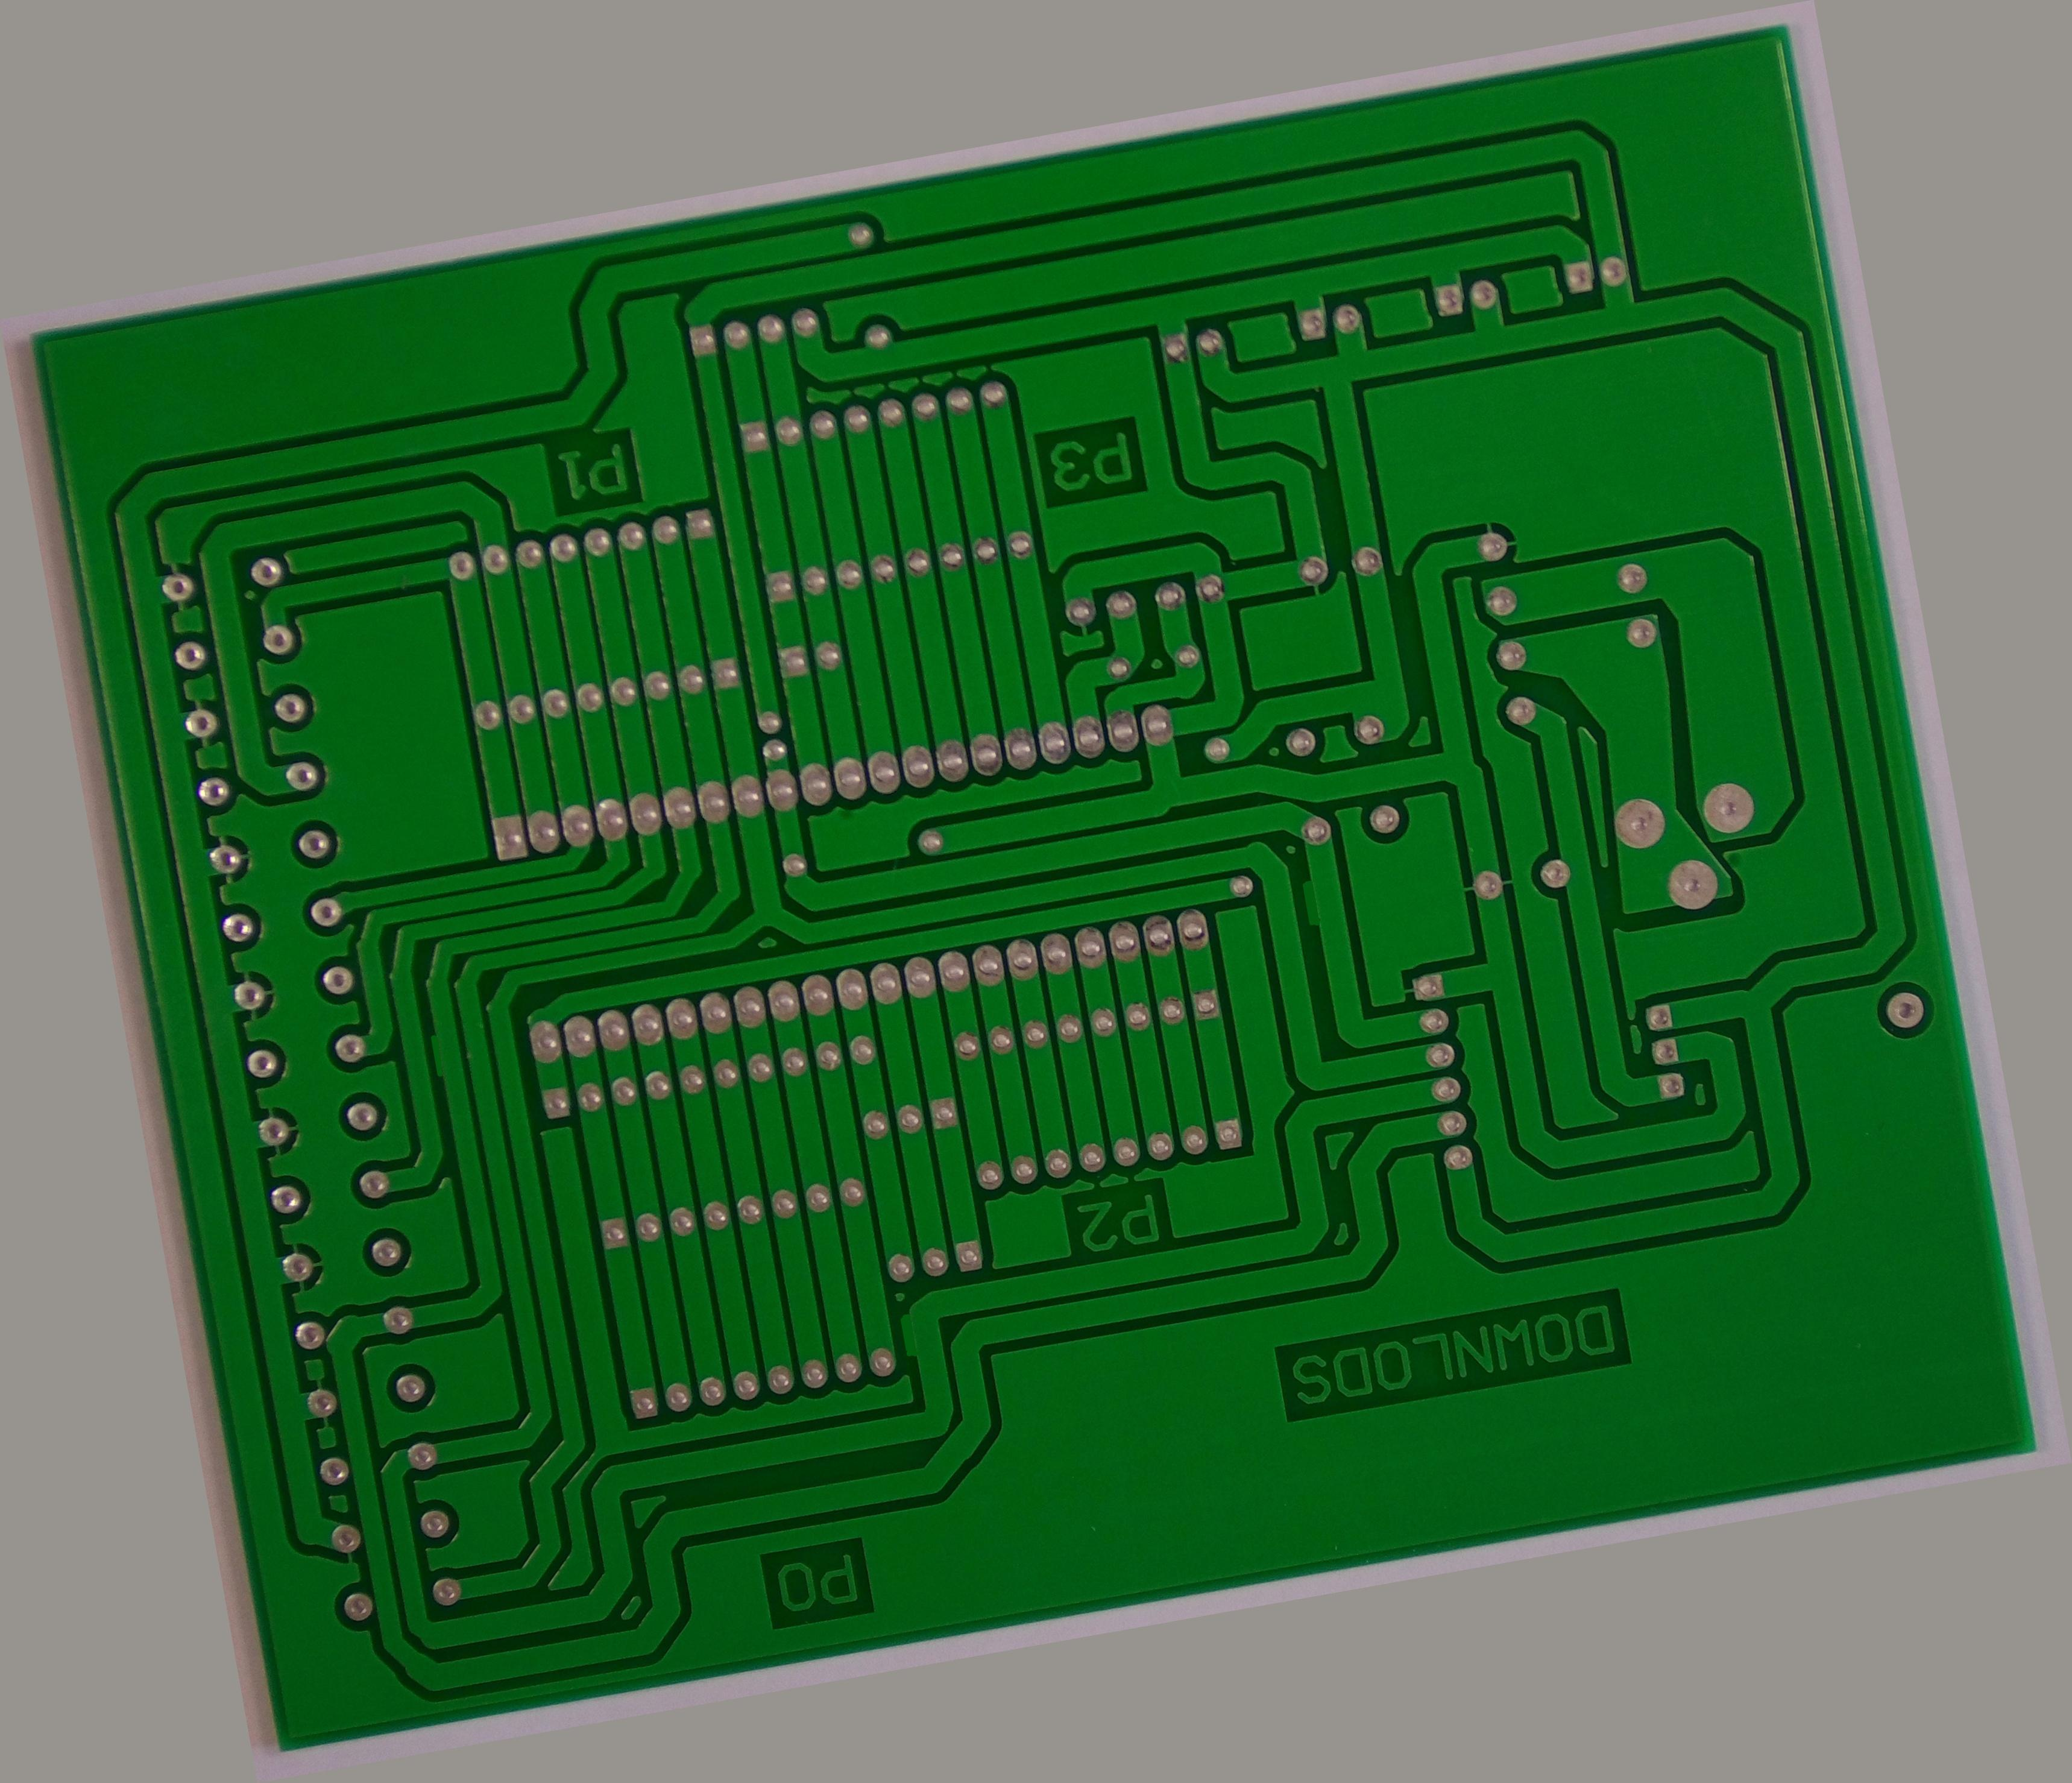spur: (793, 1355, 826, 1418), (1325, 920, 1353, 994), (331, 920, 359, 992)
